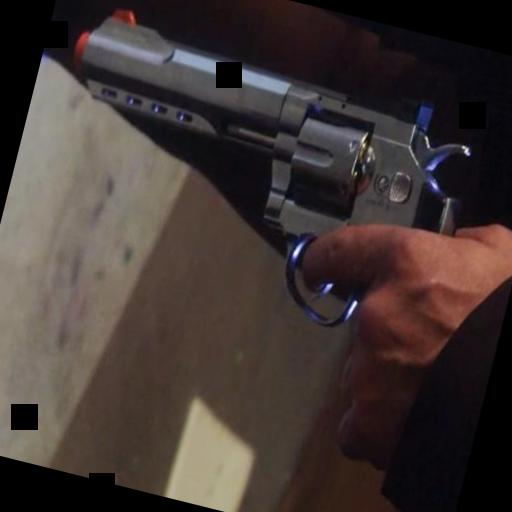Handgun: (22, 0, 489, 350)
